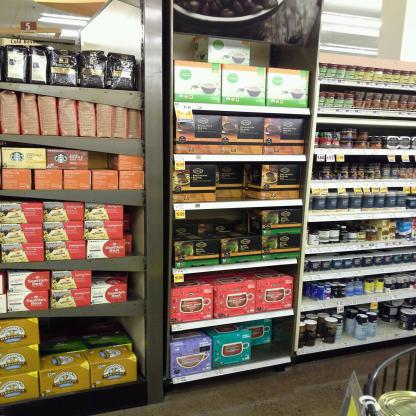Void: (192, 212, 252, 236), (215, 166, 258, 198), (42, 321, 126, 337), (256, 42, 302, 67), (177, 35, 204, 62), (278, 319, 296, 351), (380, 320, 399, 336), (93, 154, 113, 168)
